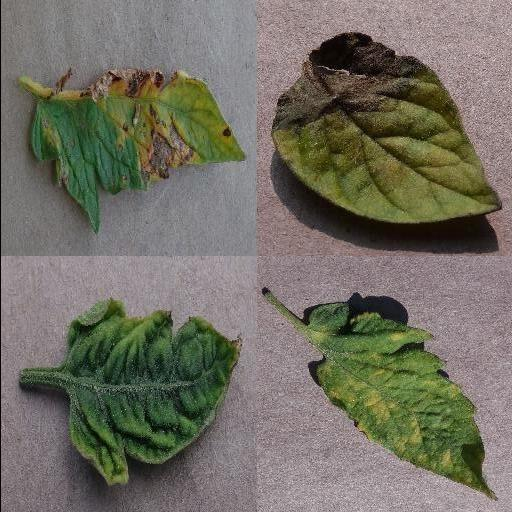Early Blight: (30, 68, 246, 234)
Late Blight: (269, 33, 503, 225)
Leaf Mold: (306, 304, 496, 500)
Yellow Leaf Curl Virus: (56, 299, 244, 488)
